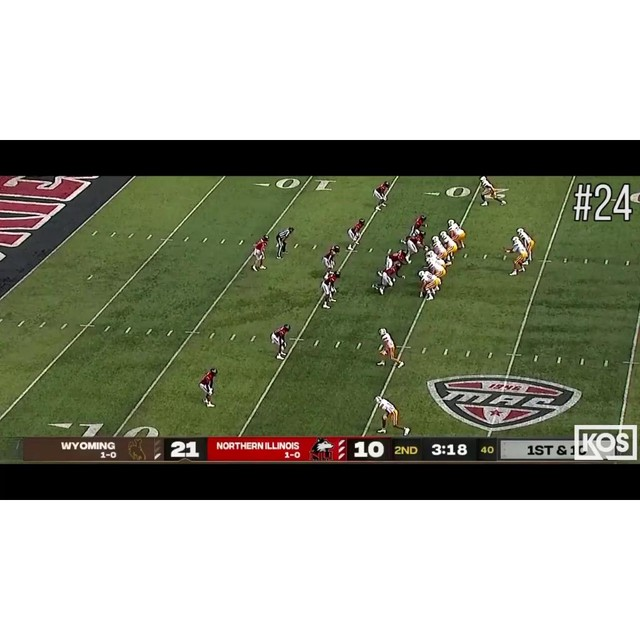american-football-player: (375, 394, 410, 436), (372, 262, 403, 296), (377, 328, 404, 367), (504, 235, 529, 277), (478, 176, 507, 206), (378, 249, 410, 274), (516, 225, 536, 265), (320, 270, 340, 309), (403, 214, 428, 244), (199, 368, 218, 407), (271, 323, 291, 359), (403, 230, 425, 262), (418, 269, 440, 301), (251, 235, 269, 271), (448, 219, 467, 251), (425, 254, 447, 281), (348, 218, 365, 251), (372, 181, 390, 211), (322, 244, 340, 273), (440, 231, 458, 259)
referee: (276, 226, 294, 259)
